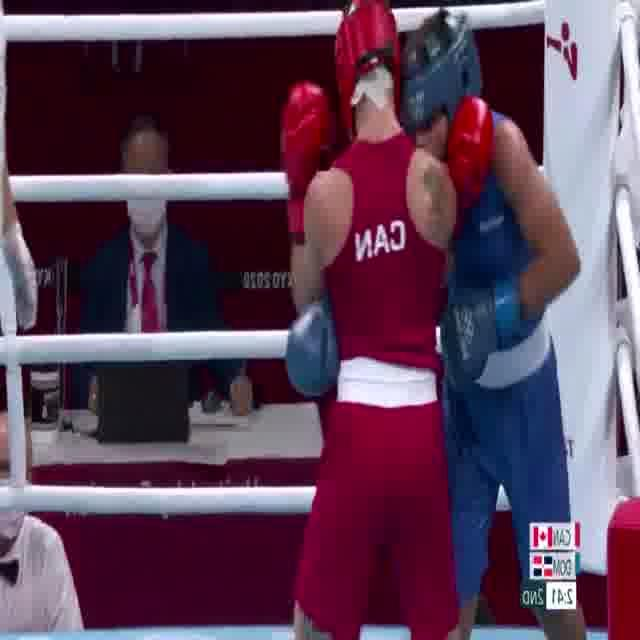blue-player: (286, 10, 583, 640)
red-player: (276, 0, 500, 640)
